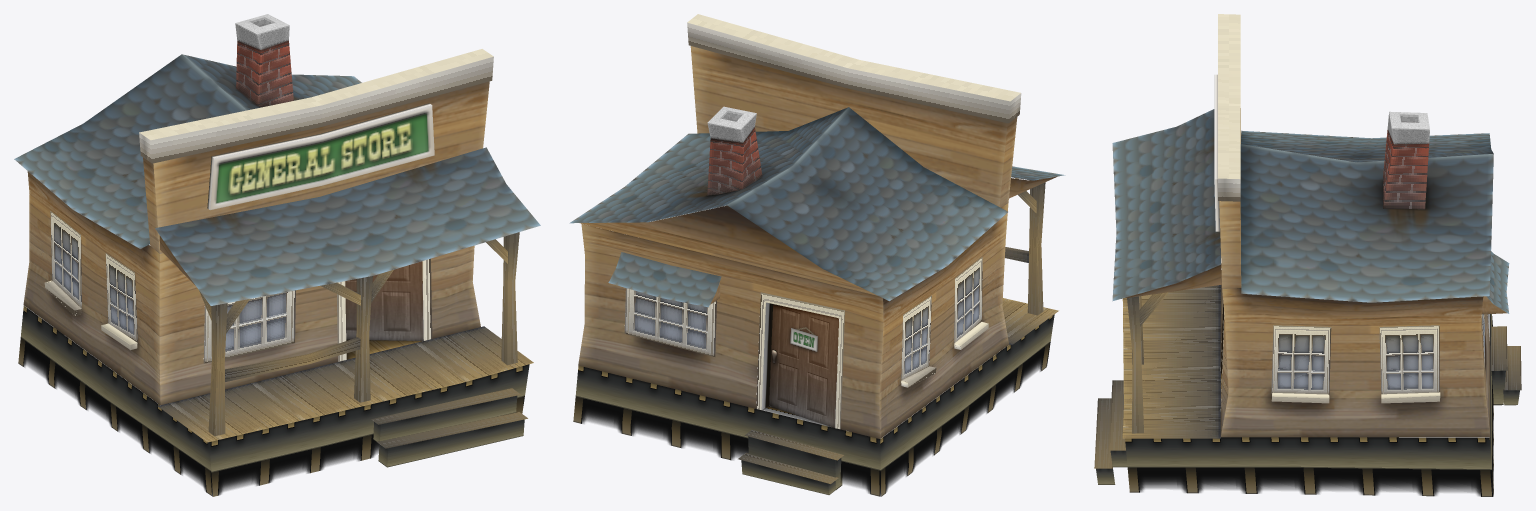
The picture shows the model from 3 angles, left to right: view 1: azimuth 30°, elevation 25°; view 2: azimuth 150°, elevation 25°; view 3: azimuth 270°, elevation 25°; orthographic projection. The views are drawn at different scales.
Parts seen in each view (by area): view 1: roof, structure, risers, deck, windows, doorsandsign, chimney; view 2: structure, roof, risers, windows, doorsandsign, deck, chimney; view 3: roof, structure, risers, deck, windows, chimney, doorsandsign.
Boxes of the visible parts, x1=… form: roof: x1=14, y1=54, x2=540, y2=305; structure: x1=23, y1=81, x2=489, y2=405; risers: x1=18, y1=306, x2=529, y2=496; deck: x1=55, y1=232, x2=533, y2=448; windows: x1=44, y1=49, x2=493, y2=363; doorsandsign: x1=207, y1=103, x2=434, y2=359; chimney: x1=235, y1=14, x2=293, y2=106; structure: x1=578, y1=46, x2=1056, y2=438; roof: x1=569, y1=107, x2=1065, y2=307; risers: x1=573, y1=314, x2=1054, y2=496; windows: x1=624, y1=14, x2=1021, y2=429; doorsandsign: x1=761, y1=302, x2=838, y2=427; deck: x1=738, y1=178, x2=1058, y2=484; chimney: x1=707, y1=106, x2=762, y2=195; roof: x1=1112, y1=109, x2=1509, y2=313; structure: x1=1121, y1=108, x2=1507, y2=437; risers: x1=1096, y1=314, x2=1519, y2=496; deck: x1=1094, y1=285, x2=1521, y2=468; windows: x1=1218, y1=14, x2=1489, y2=411; chimney: x1=1383, y1=111, x2=1429, y2=209; doorsandsign: x1=1214, y1=74, x2=1489, y2=398.
Size of the model in its own units: 410 by 374 by 449.
Materials: 7 (7 with a texture image).
